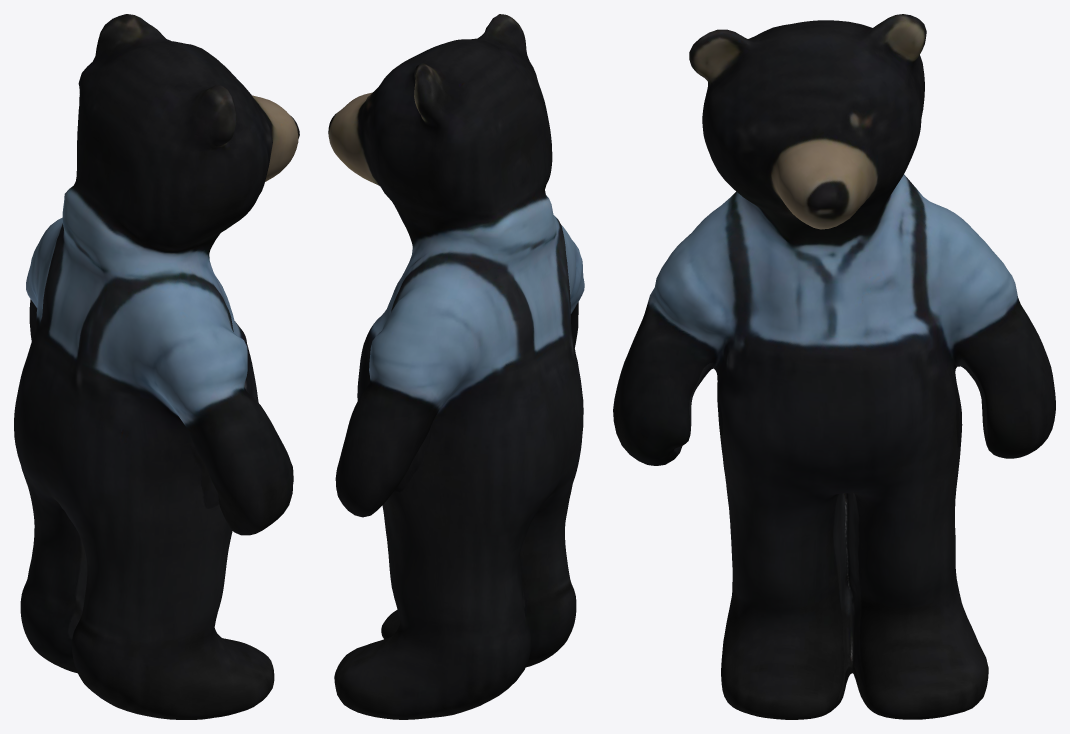
Rendered from grey_bear_in_a_work_preview_4.glb.
3 renders of one model, left to right at view 1: azimuth 30°, elevation 25°; view 2: azimuth 150°, elevation 25°; view 3: azimuth 270°, elevation 25°, orthographic. The views are drawn at different scales.
Parts seen in each view (by area): view 1: mesh; view 2: mesh; view 3: mesh.
Boxes of the visible parts, x1,y1,x2,y2 form: mesh: (14, 14, 299, 719); mesh: (328, 14, 584, 719); mesh: (613, 14, 1055, 719).
Size of the model in its own units: 0.4042 by 0.9994 by 0.5927.
Materials: 1 (1 with a texture image).
